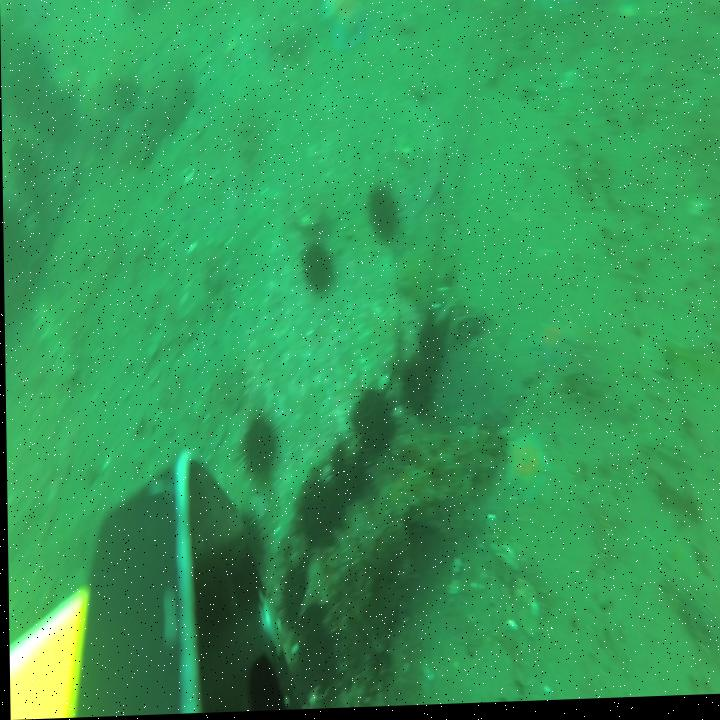echinus: (219, 509, 271, 599), (350, 386, 401, 466), (293, 477, 341, 559), (279, 555, 324, 636), (293, 624, 337, 703), (328, 434, 372, 510), (237, 413, 279, 490), (366, 186, 403, 250), (297, 242, 335, 302)
starfish: (502, 435, 552, 511), (319, 0, 370, 56), (532, 316, 574, 374), (532, 0, 577, 29)
